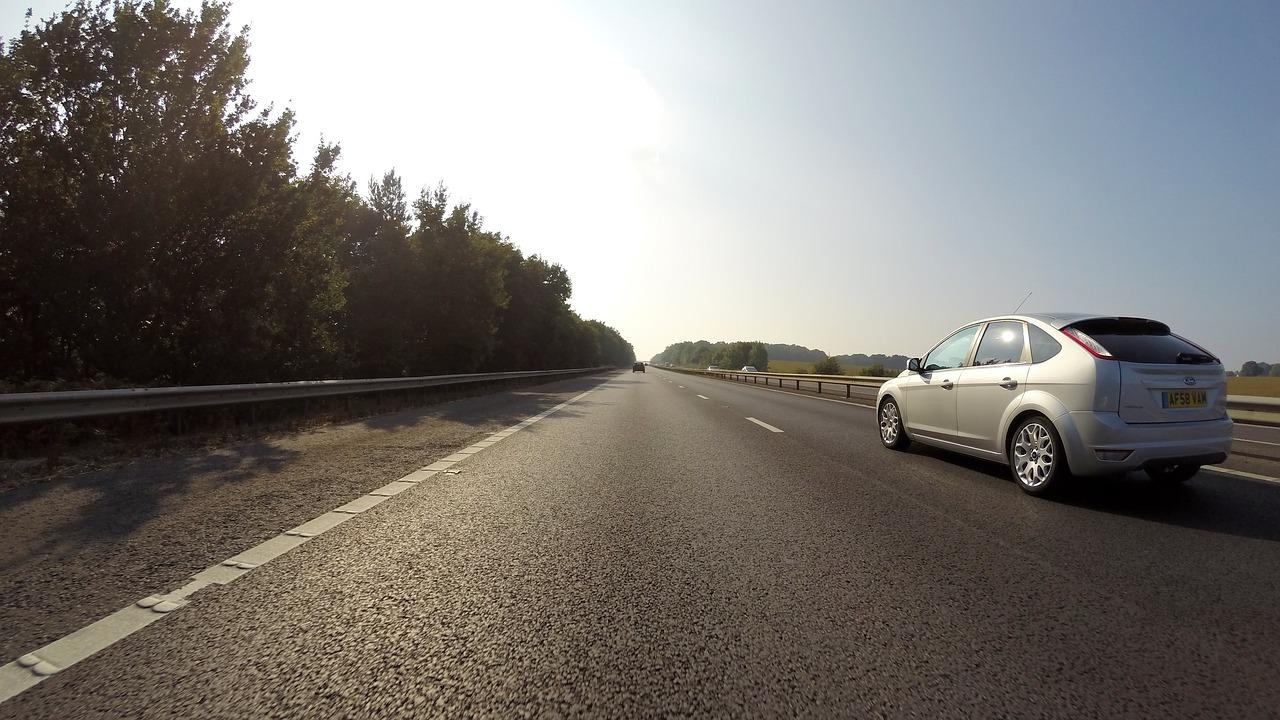car: (861, 205, 1270, 581)
